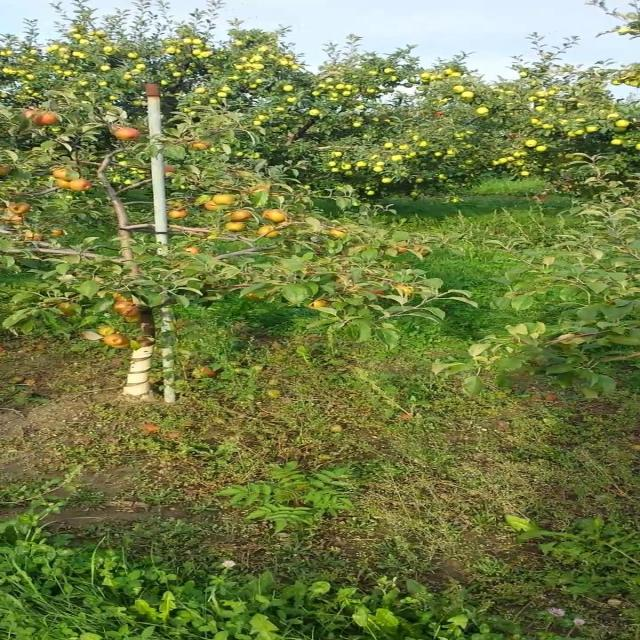apple: (113, 304, 140, 315), (262, 212, 286, 224), (120, 128, 142, 140), (70, 180, 92, 192), (397, 284, 414, 297), (198, 368, 219, 378), (212, 196, 235, 205), (56, 168, 71, 180), (127, 312, 142, 324), (262, 228, 277, 239), (234, 212, 254, 220), (227, 224, 247, 232), (113, 296, 133, 304), (63, 304, 76, 316), (6, 216, 25, 224), (191, 144, 212, 151), (120, 308, 140, 315), (170, 212, 187, 220), (106, 336, 123, 344), (312, 300, 329, 308), (28, 232, 43, 241), (56, 180, 71, 189), (120, 336, 132, 347), (42, 116, 57, 124), (205, 204, 220, 212), (184, 248, 199, 256), (99, 328, 114, 336), (255, 184, 270, 192), (15, 204, 28, 213), (248, 292, 261, 300), (419, 248, 430, 257), (333, 232, 347, 239), (397, 248, 409, 255), (28, 112, 39, 119), (49, 232, 64, 237), (376, 292, 388, 296), (170, 168, 178, 172)
